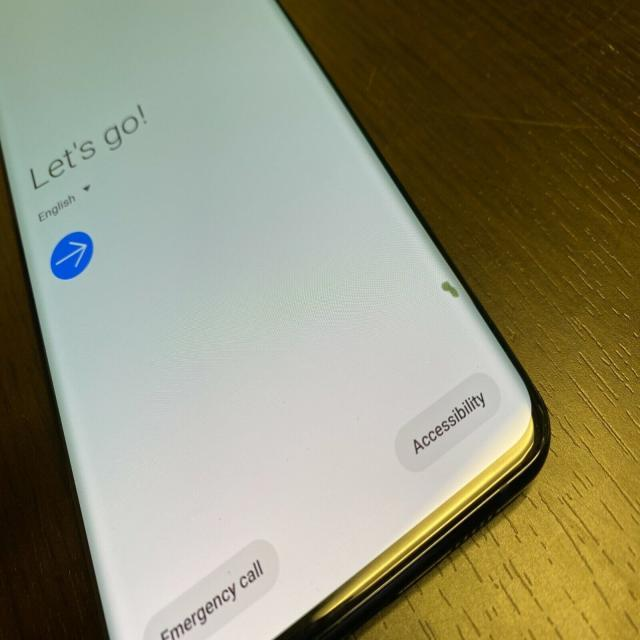dead pixel: (410, 250, 489, 328)
